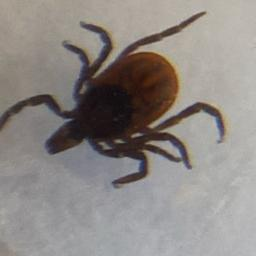Ixodes scapularis: (5, 10, 227, 190)
